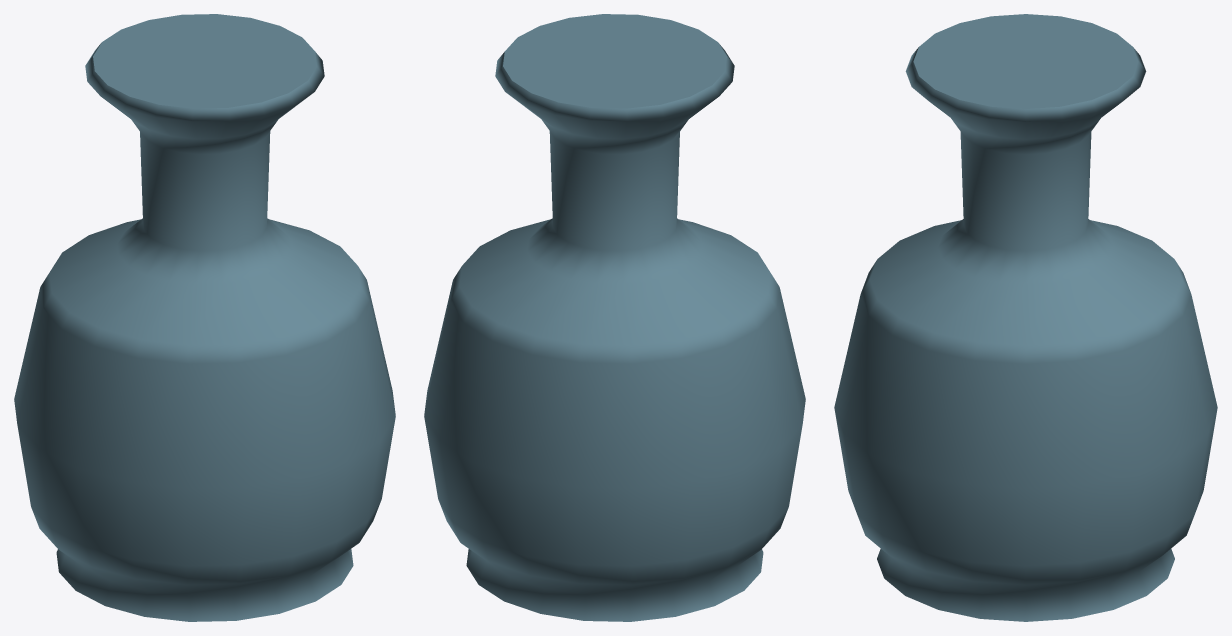
Rendered from Vase.fbx.
The picture shows the model from 3 angles, left to right: view 1: azimuth 30°, elevation 25°; view 2: azimuth 150°, elevation 25°; view 3: azimuth 270°, elevation 25°; orthographic projection.
Parts seen in each view (by area): view 1: pCylinder2; view 2: pCylinder2; view 3: pCylinder2.
Boxes of the visible parts, x1,y1,x2,y2 form: pCylinder2: [14, 14, 395, 621]; pCylinder2: [424, 14, 805, 621]; pCylinder2: [834, 14, 1217, 621].
Bounding box in the file's own units: 3.12 × 4.47 × 3.12.
